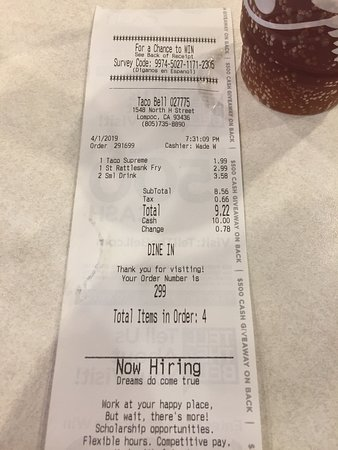Taco Bell: (133, 91, 169, 109)
